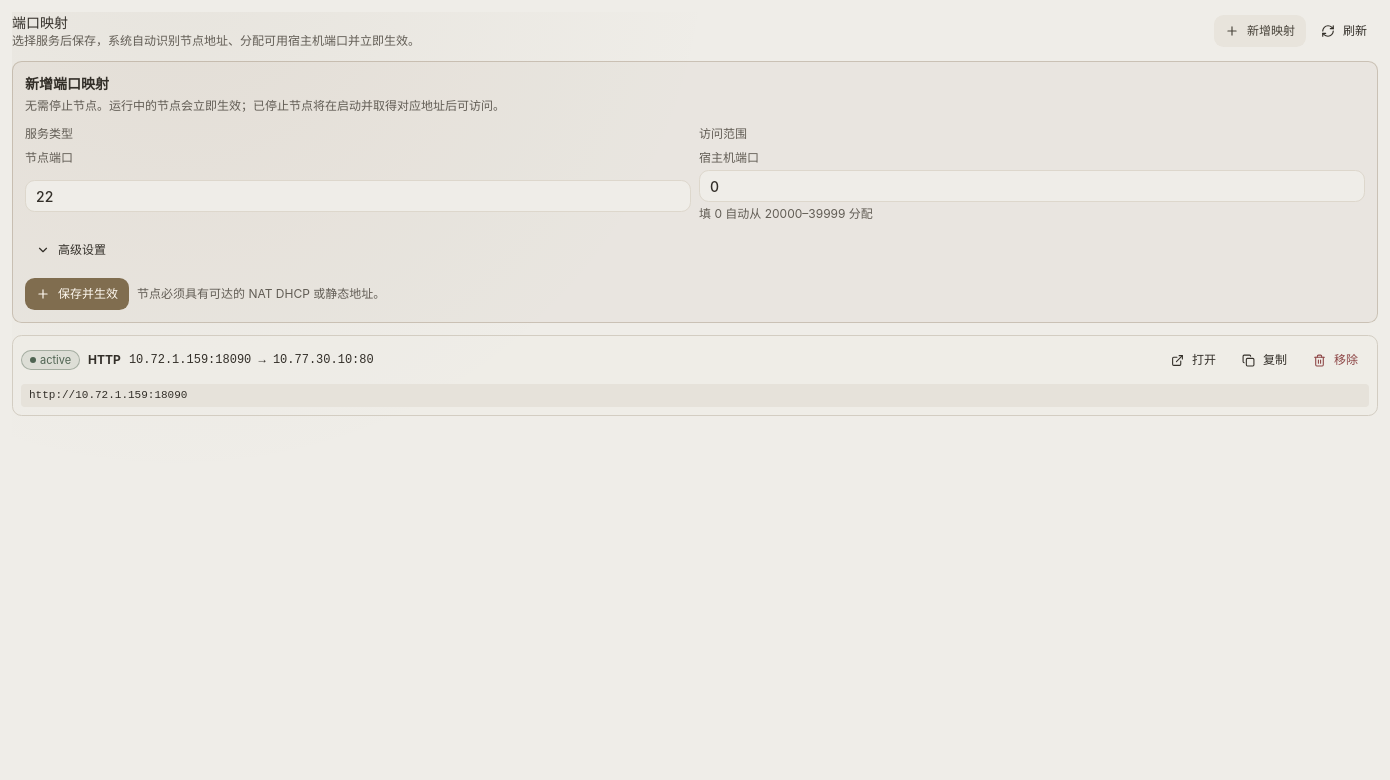
Scenario: PortMappingsPanel › replaces the pending message with a persistent address error
The image size is (1390, 780).
Click the button "保存并生效".
click(77, 294)  # box [25,278,129,310]
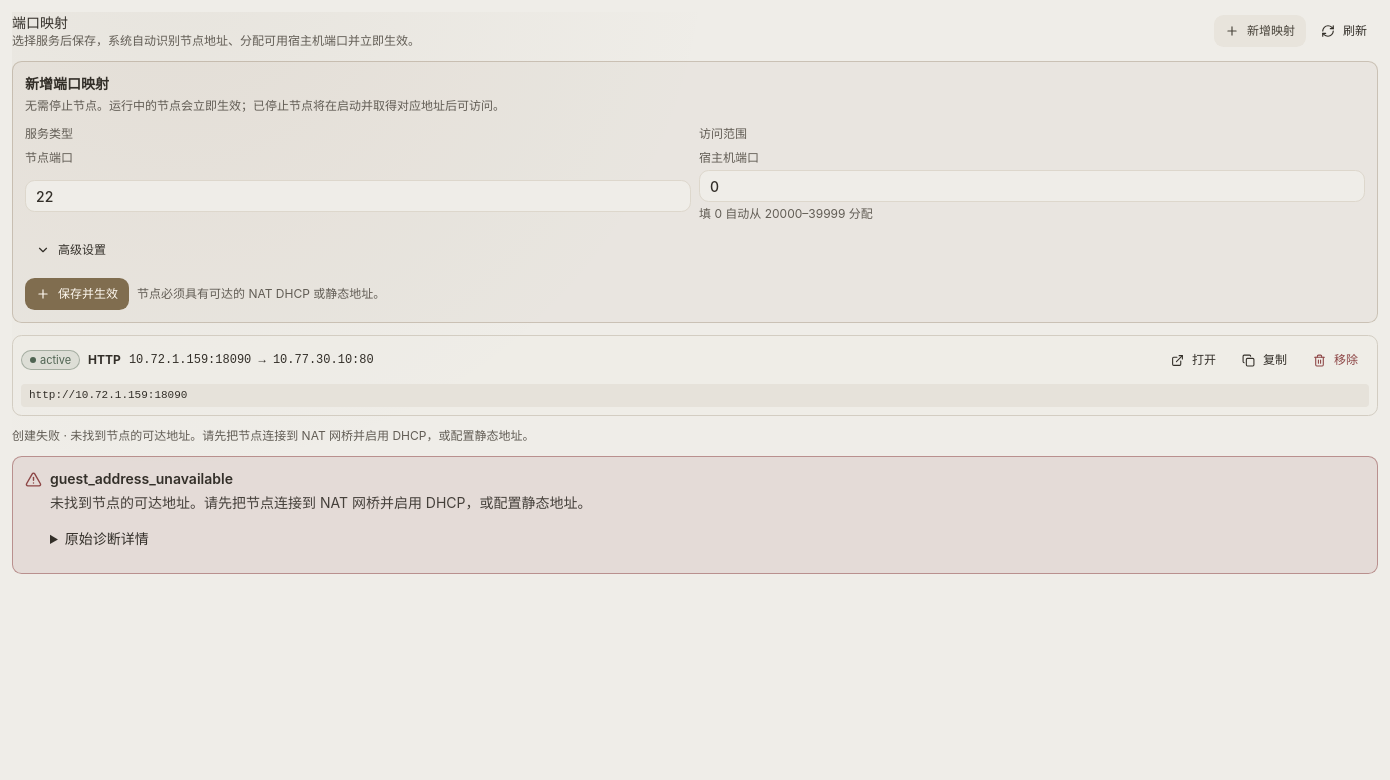
Result: the text "创建失败 · 未找到节点的可达地址。请先把节点连接到 NAT 网桥并启用 DHCP，或配置静态地址。" is shown at [12,428,534,443]
Result: the text "未找到节点的可达地址。请先把节点连接到 NAT 网桥并启用 DHCP，或配置静态地址。" is shown at [12,428,534,443]
